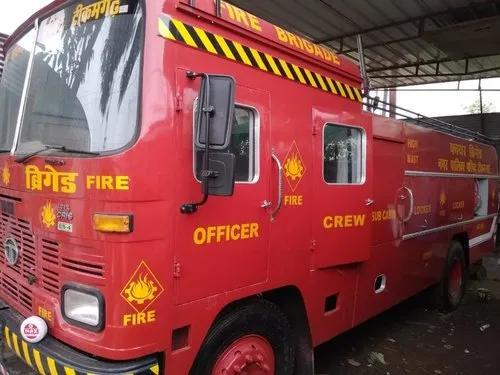Fire-engine: (0, 0, 500, 375), (217, 0, 350, 75), (119, 250, 162, 337), (278, 137, 312, 222), (19, 164, 82, 208), (78, 167, 144, 197)
